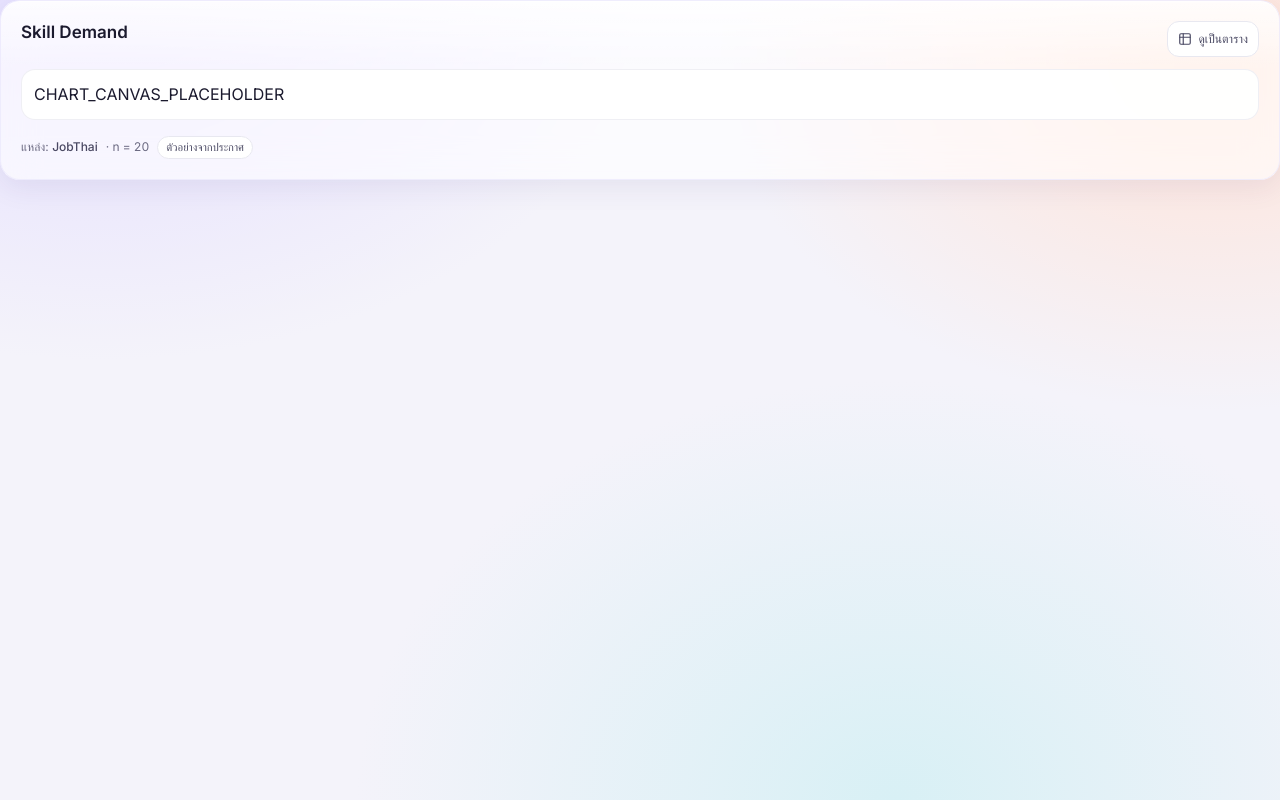
Design System UI Components › toggles between Chart View and Table View in GlassCard
expect the text "CHART_CANVAS_PLACEHOLDER" is shown: met, box [34, 84, 284, 104]
Step 1. Click the button "ดูเป็นตาราง" → (1213, 39), box [1167, 21, 1259, 57]
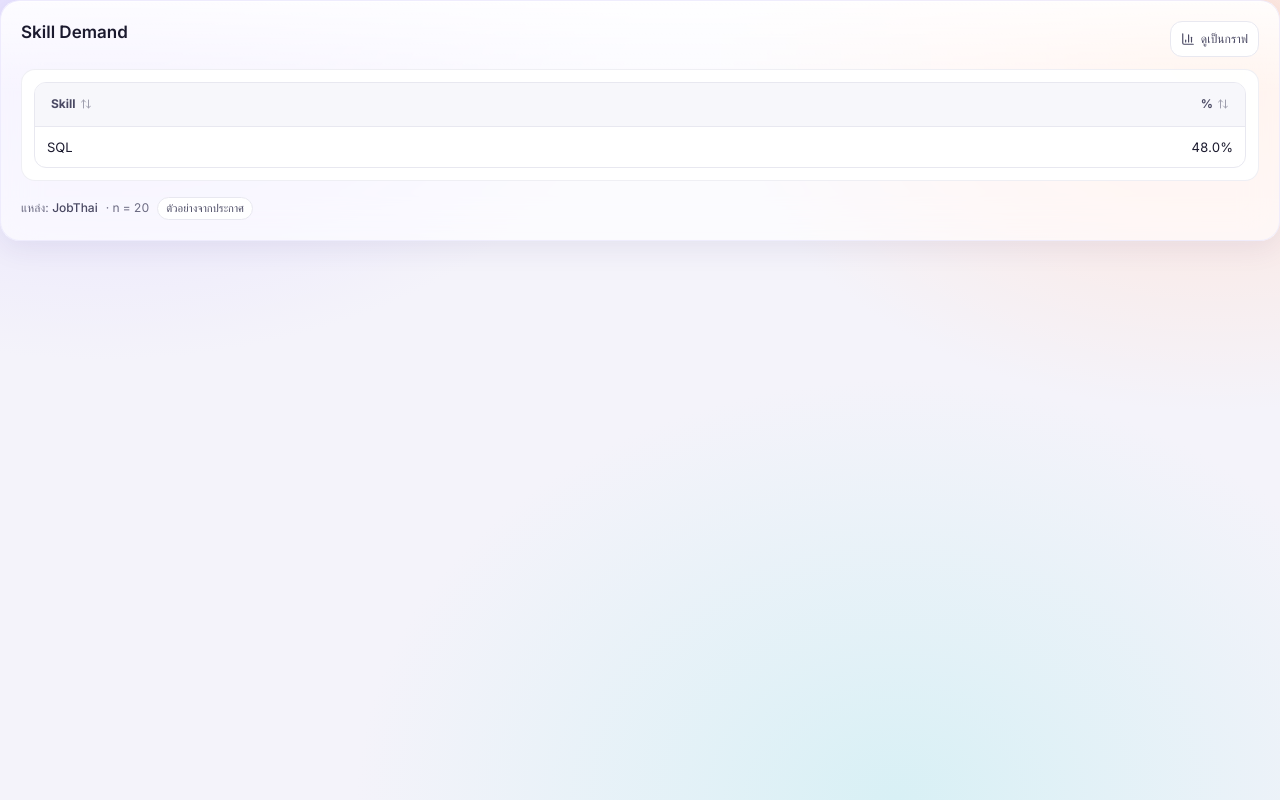
expect the text "CHART_CANVAS_PLACEHOLDER" is gone: met
expect the text "48.0%" is shown: met, box [671, 127, 1245, 167]
